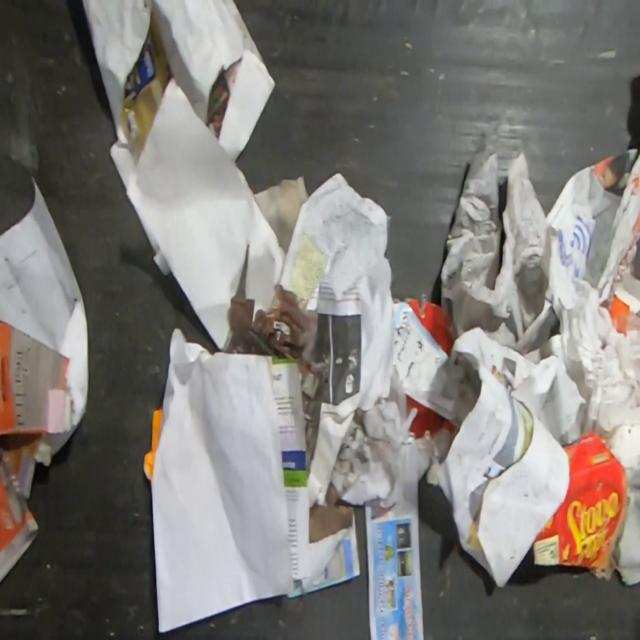cardboard: (532, 429, 625, 572), (405, 295, 452, 355), (405, 394, 452, 436)
